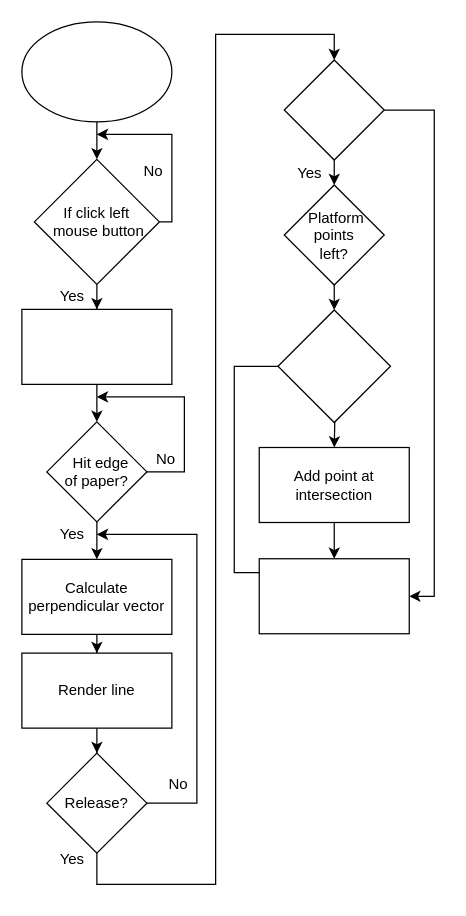
Image size: 466x916. Some labels were removed from this diagram. Here are the shapes that lost their labels. From the top down, the centre of each, then its label:
(96,71): Start
(333,109): Platforms left?
(96,346): Shoot raycast from mouse position
(333,365): Line btw points intersects?
